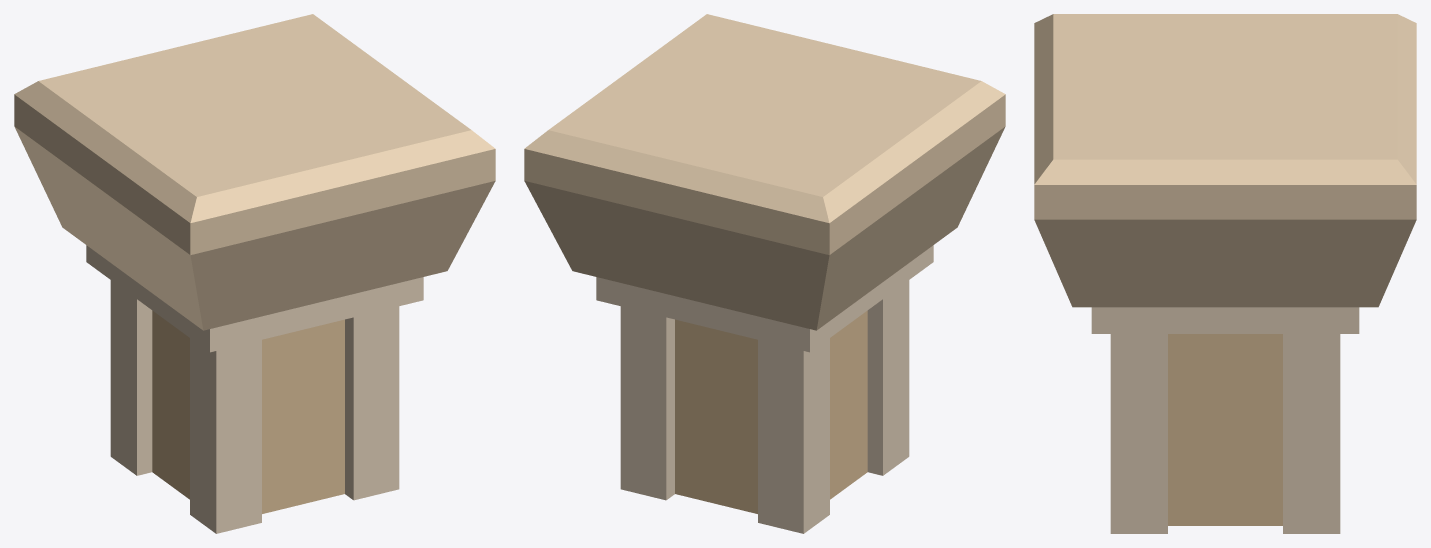
The model's file is Pillar_Large_Top.glb.
3 renders of one model, left to right at view 1: azimuth 30°, elevation 25°; view 2: azimuth 150°, elevation 25°; view 3: azimuth 270°, elevation 25°, orthographic. The views are drawn at different scales.
Parts seen in each view (by area): view 1: Pillar_Large_Top; view 2: Pillar_Large_Top; view 3: Pillar_Large_Top.
Boxes of the visible parts, x1=… form: Pillar_Large_Top: x1=14, y1=14, x2=495, y2=533; Pillar_Large_Top: x1=524, y1=14, x2=1005, y2=533; Pillar_Large_Top: x1=1034, y1=14, x2=1416, y2=533.
Bounding box in the file's own units: 1 × 1.15 × 1.
